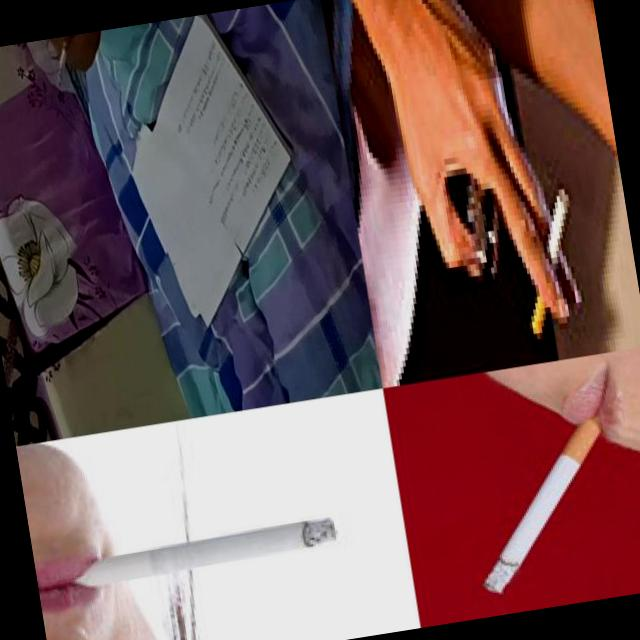smoke: (456, 396, 634, 597), (69, 516, 339, 589), (503, 169, 600, 353), (50, 36, 80, 88)
